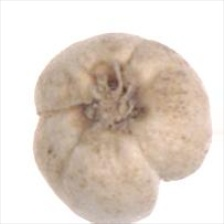L4: (33, 33, 212, 223)
